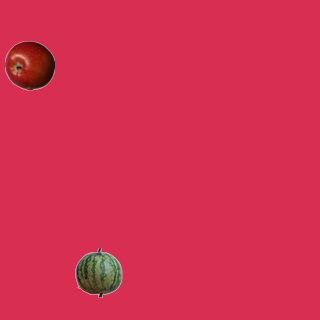Apple Braeburn: (4, 40, 54, 90)
Watermelon: (73, 247, 123, 297)
